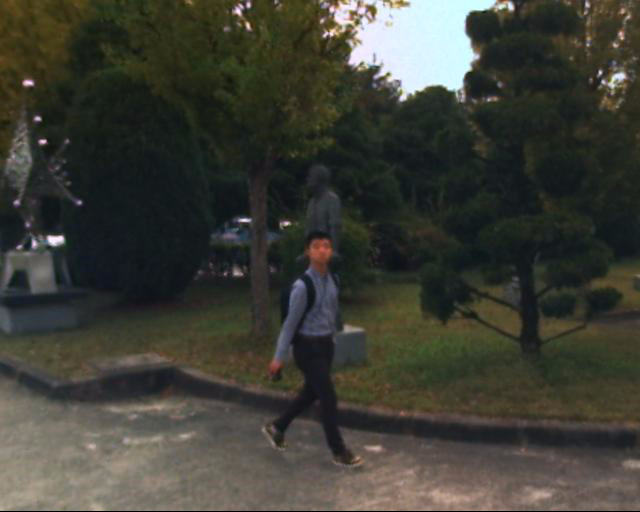person: (265, 215, 350, 471), (279, 154, 347, 354)
